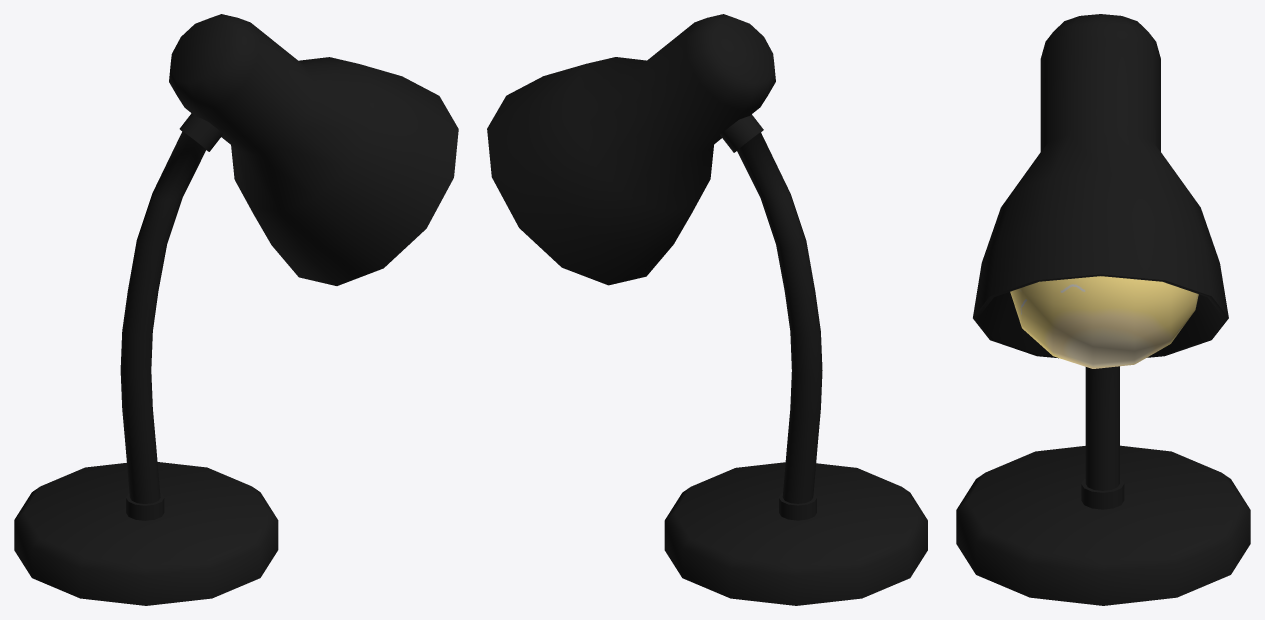
File: Lamp.FBX
3 renders of one model, left to right at view 1: azimuth 30°, elevation 25°; view 2: azimuth 150°, elevation 25°; view 3: azimuth 270°, elevation 25°, orthographic. The views are drawn at different scales.
Parts seen in each view (by area): view 1: Lamp; view 2: Lamp; view 3: Lamp, LightBulb.
Part boxes in pixels (left/top/right/bottom): Lamp: left=14, top=14, right=458, bottom=605; Lamp: left=487, top=14, right=927, bottom=605; Lamp: left=956, top=14, right=1250, bottom=605; LightBulb: left=1010, top=276, right=1198, bottom=368.
Size of the model in its own units: 43.84 by 52.76 by 24.66.
